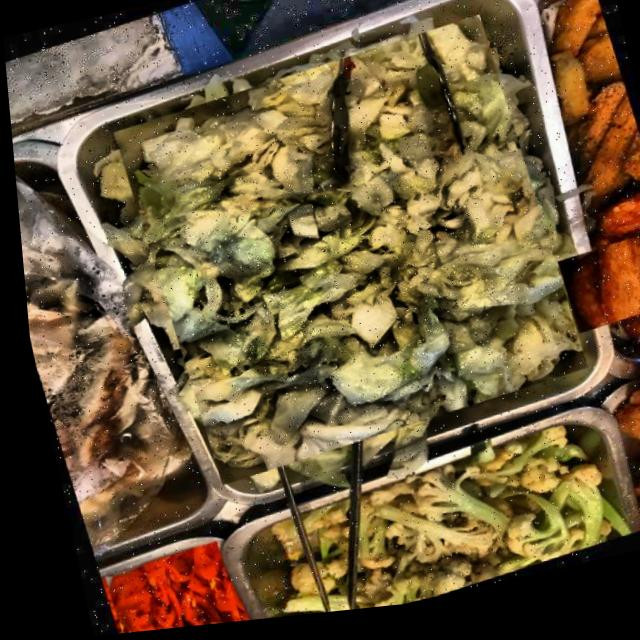Food: (100, 13, 590, 500), (87, 541, 235, 636), (560, 221, 640, 362)
